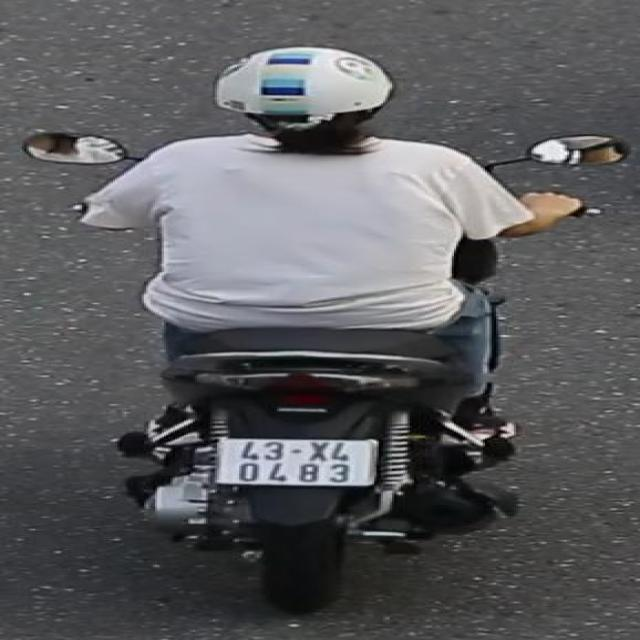LP: (209, 434, 382, 493)
helmet: (210, 41, 401, 150)
